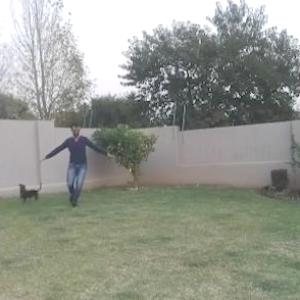land: (49, 115, 128, 208)
